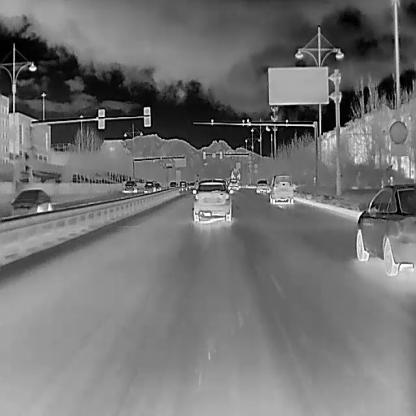car: (355, 183, 415, 276), (191, 179, 233, 223), (10, 188, 51, 214), (268, 173, 294, 205), (254, 179, 271, 193), (143, 180, 155, 192), (124, 180, 136, 192), (227, 177, 238, 190), (179, 179, 185, 191), (168, 180, 177, 188), (153, 182, 161, 190), (185, 181, 190, 189), (189, 181, 194, 187)
truck: (230, 167, 240, 182)
